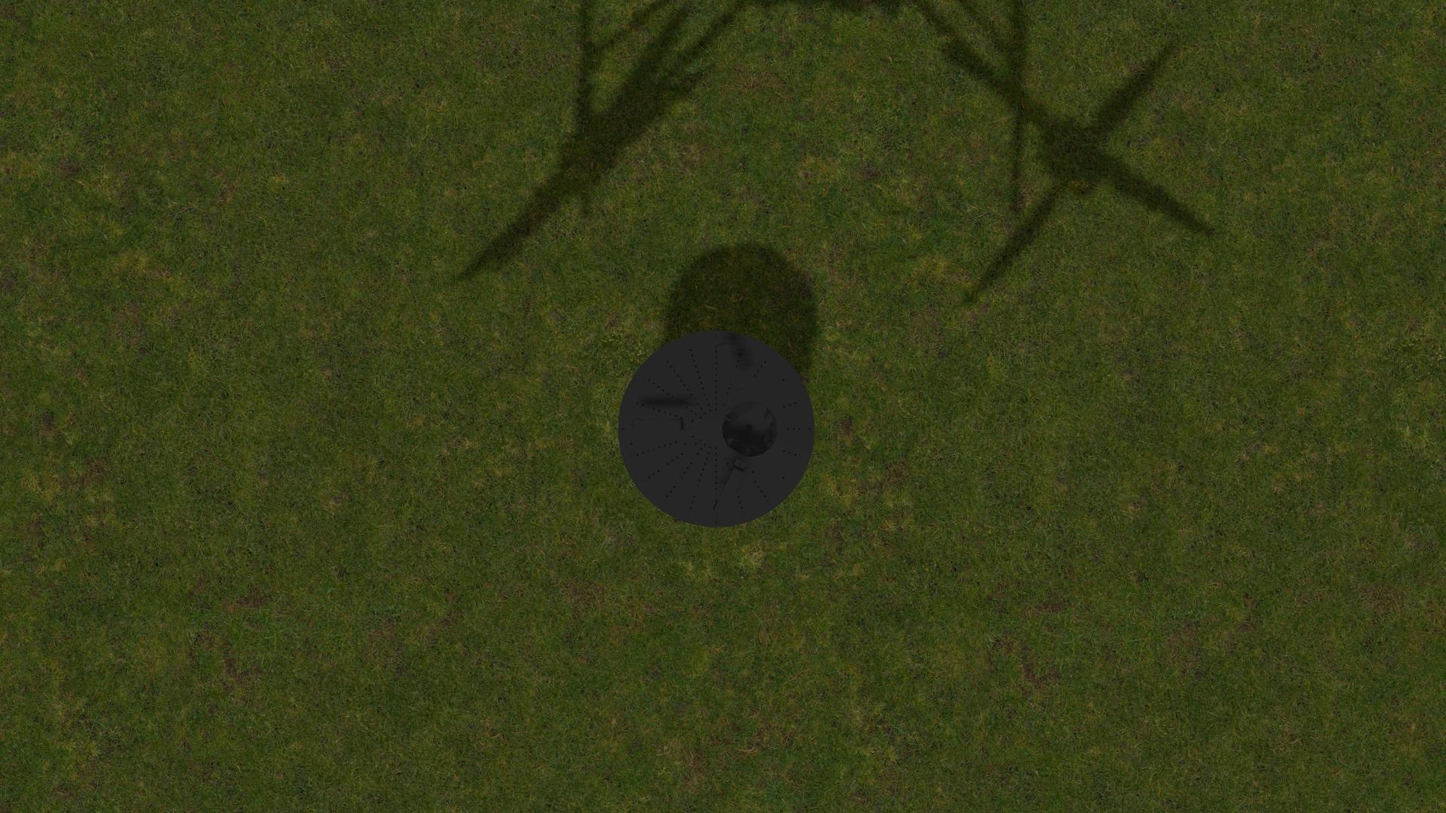alca: (711, 458, 747, 519), (713, 337, 747, 396), (628, 418, 690, 431)
armadilha: (618, 330, 815, 528)
